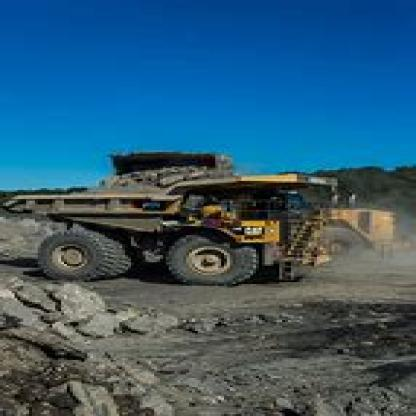dump_truck: (14, 168, 340, 284)
